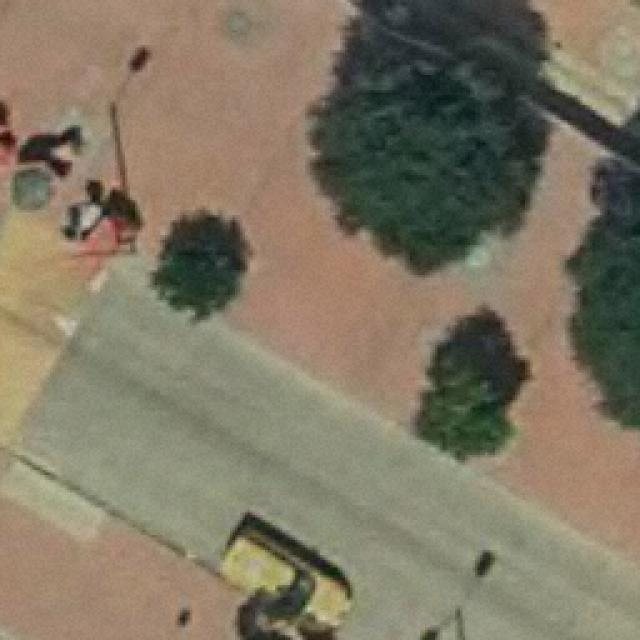vendedor_ambulante: (4, 154, 66, 220)
